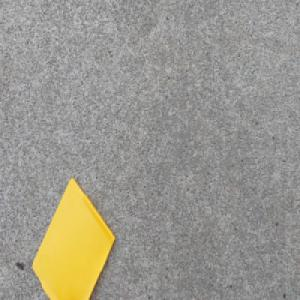PlasticPart: (31, 176, 116, 300)
